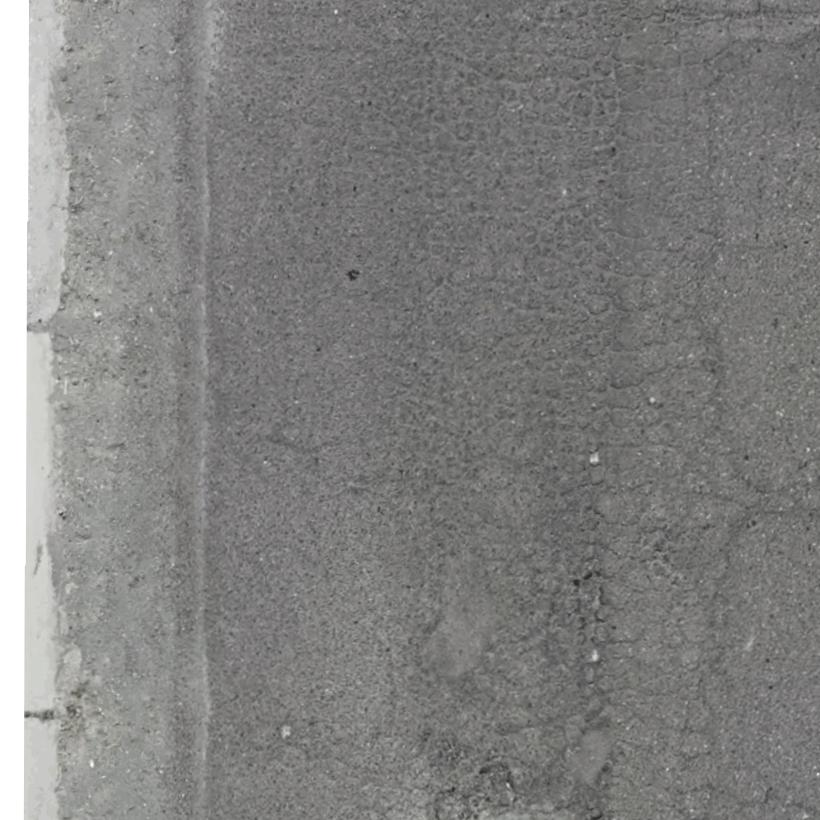GRIETA: (265, 428, 344, 456)
PIEL DE COCODRILO: (205, 0, 819, 819)
